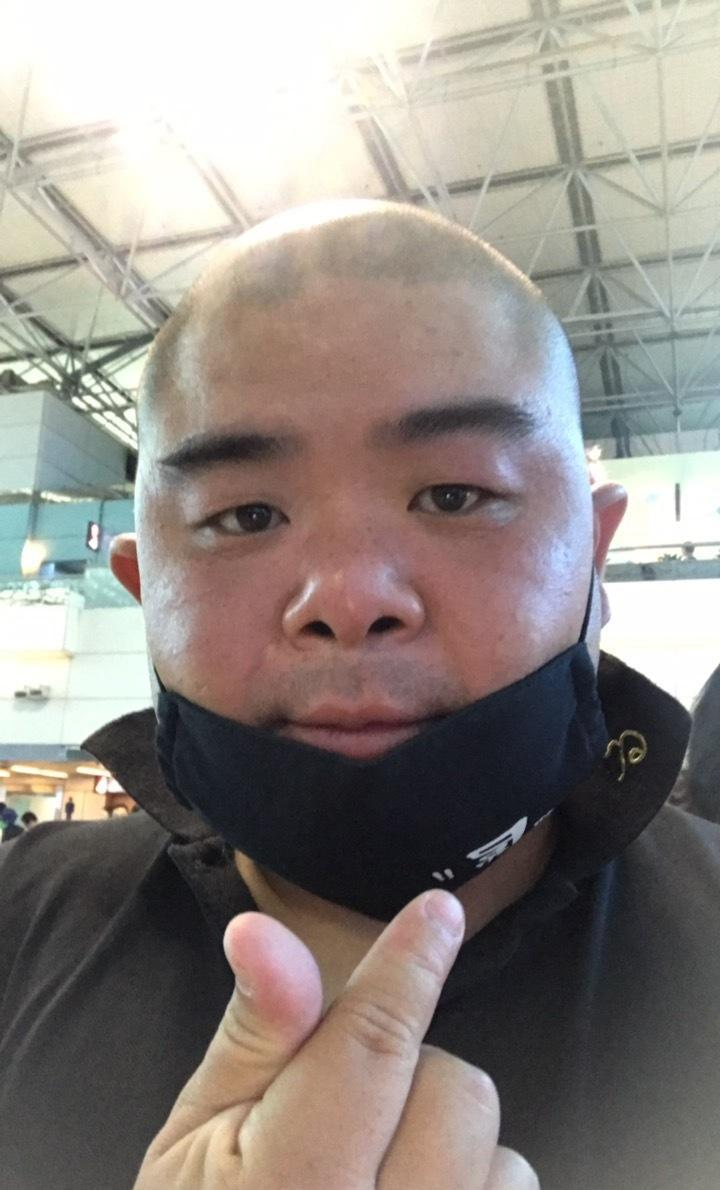WRONG: (122, 386, 568, 857)
